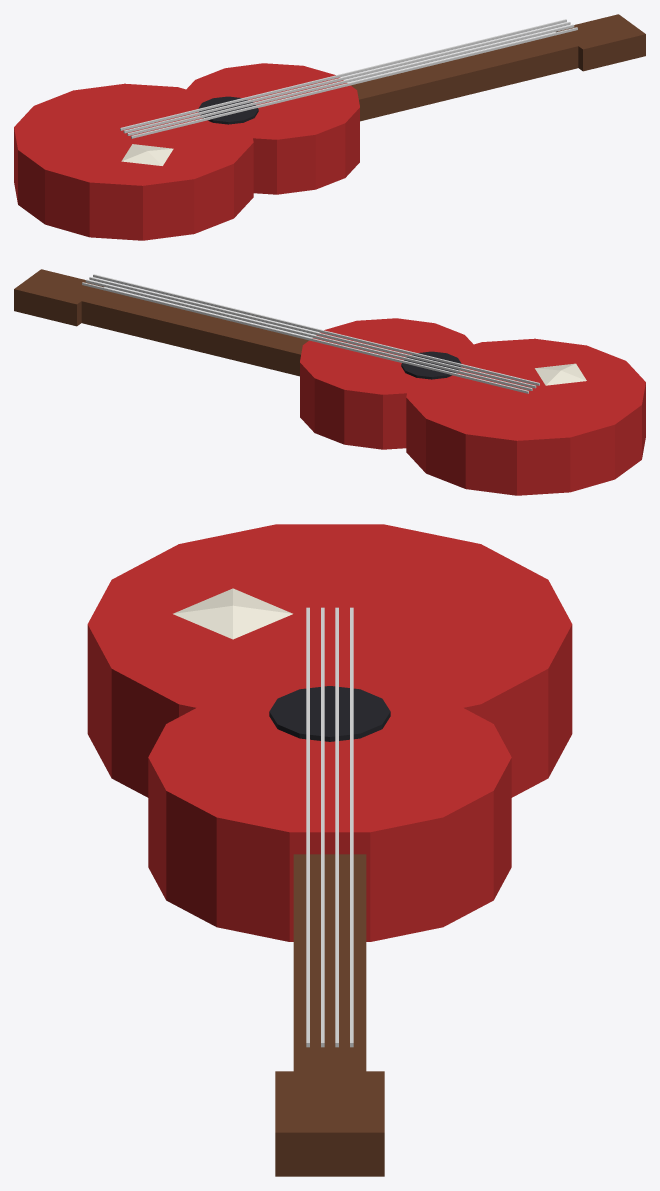
File: star_guitar.glb
3 views of the same model, one above another, from view 1: azimuth 30°, elevation 25°; view 2: azimuth 150°, elevation 25°; view 3: azimuth 270°, elevation 25° (orthographic). The views are drawn at different scales.
Visible parts, largest first — view 1: lower_star_guitar_red, upper_star_guitar_red, neck_pawn_story_wood, string_star_guitar_string (×4), head_pawn_story_wood, hole_star_guitar_hole, star_star_guitar_star; view 2: lower_star_guitar_red, upper_star_guitar_red, neck_pawn_story_wood, string_star_guitar_string (×4), head_pawn_story_wood, hole_star_guitar_hole, star_star_guitar_star; view 3: lower_star_guitar_red, upper_star_guitar_red, neck_pawn_story_wood, head_pawn_story_wood, string_star_guitar_string (×4), hole_star_guitar_hole, star_star_guitar_star.
Boxes of the visible parts, x1=… form: lower_star_guitar_red: x1=14, y1=83, x2=253, y2=240; upper_star_guitar_red: x1=186, y1=63, x2=359, y2=194; neck_pawn_story_wood: x1=351, y1=33, x2=580, y2=121; string_star_guitar_string (×4): x1=120, y1=19, x2=577, y2=138; head_pawn_story_wood: x1=556, y1=14, x2=645, y2=71; hole_star_guitar_hole: x1=198, y1=96, x2=258, y2=124; star_star_guitar_star: x1=121, y1=144, x2=173, y2=165; lower_star_guitar_red: x1=406, y1=338, x2=645, y2=495; upper_star_guitar_red: x1=300, y1=318, x2=475, y2=449; neck_pawn_story_wood: x1=79, y1=288, x2=308, y2=376; string_star_guitar_string (×4): x1=82, y1=274, x2=539, y2=393; head_pawn_story_wood: x1=14, y1=269, x2=103, y2=326; hole_star_guitar_hole: x1=401, y1=351, x2=461, y2=379; star_star_guitar_star: x1=535, y1=363, x2=586, y2=385; lower_star_guitar_red: x1=87, y1=524, x2=572, y2=797; upper_star_guitar_red: x1=148, y1=682, x2=511, y2=941; neck_pawn_story_wood: x1=293, y1=854, x2=366, y2=1073; head_pawn_story_wood: x1=275, y1=1071, x2=384, y2=1176; string_star_guitar_string (×4): x1=306, y1=607, x2=353, y2=1047; hole_star_guitar_hole: x1=269, y1=686, x2=390, y2=741; star_star_guitar_star: x1=173, y1=588, x2=292, y2=639.
Size of the model in its own units: 1.14 by 0.108 by 0.4.
